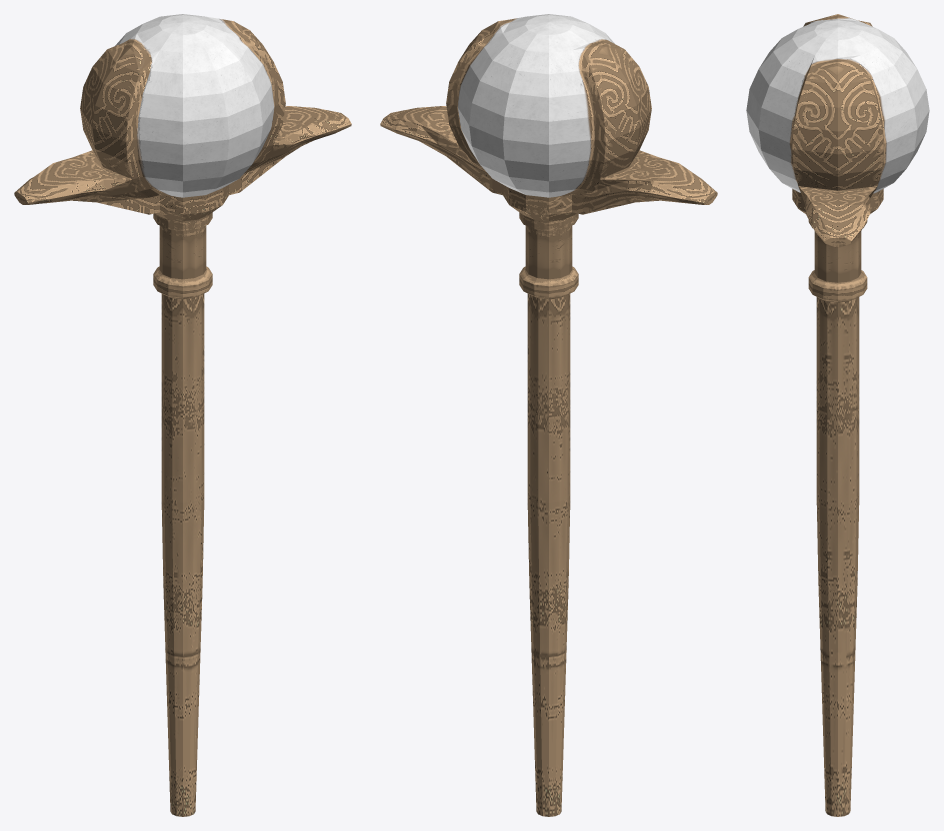
The model's file is White Bead Wand.fbx.
3 views of the same model, side by side, from view 1: azimuth 30°, elevation 25°; view 2: azimuth 150°, elevation 25°; view 3: azimuth 270°, elevation 25° (orthographic).
Visible parts, largest first — view 1: White_Bead_Wand; view 2: White_Bead_Wand; view 3: White_Bead_Wand.
Boxes of the visible parts, box(x1,y1,x2,y2) form: White_Bead_Wand: box(14, 14, 351, 816); White_Bead_Wand: box(380, 14, 717, 816); White_Bead_Wand: box(746, 14, 929, 816).
Bounding box in the file's own units: 159 × 370 × 78.22.
